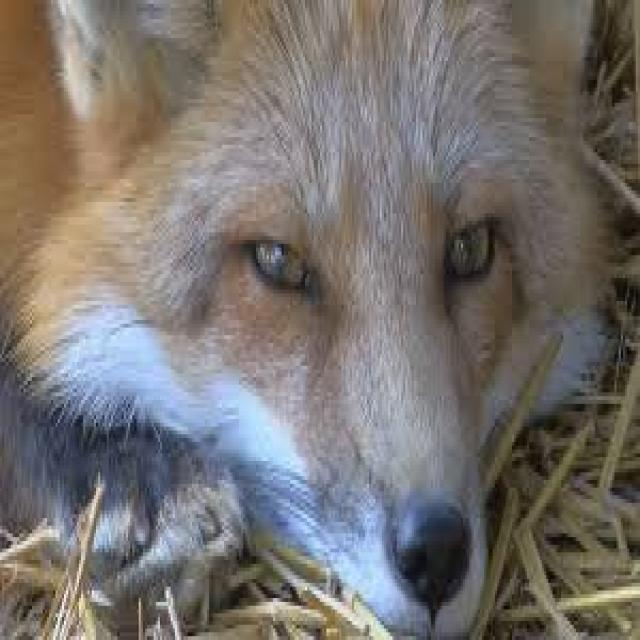fox: (0, 0, 634, 636)
